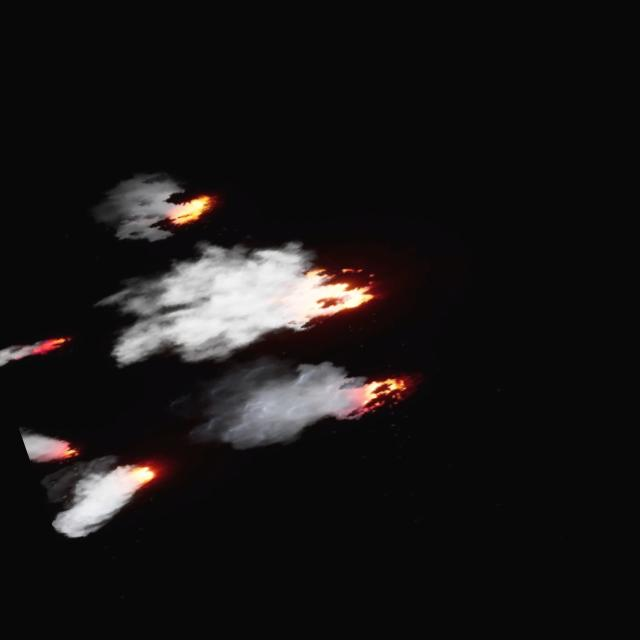fire: (272, 252, 378, 329), (341, 367, 409, 421), (162, 192, 212, 228), (30, 328, 70, 357), (126, 454, 162, 486)
smoke: (80, 217, 324, 387), (188, 349, 362, 463), (39, 453, 146, 543), (103, 171, 182, 250), (20, 420, 66, 465), (0, 338, 43, 368)
